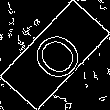O_SE: (21, 22, 89, 88)
